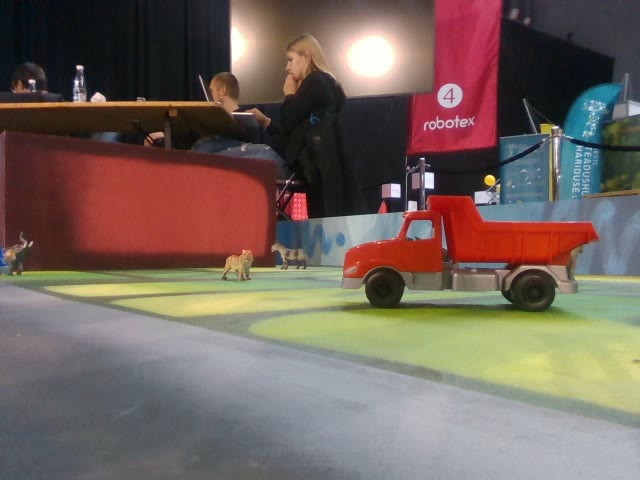toy: (269, 243, 311, 271), (220, 249, 254, 281)
